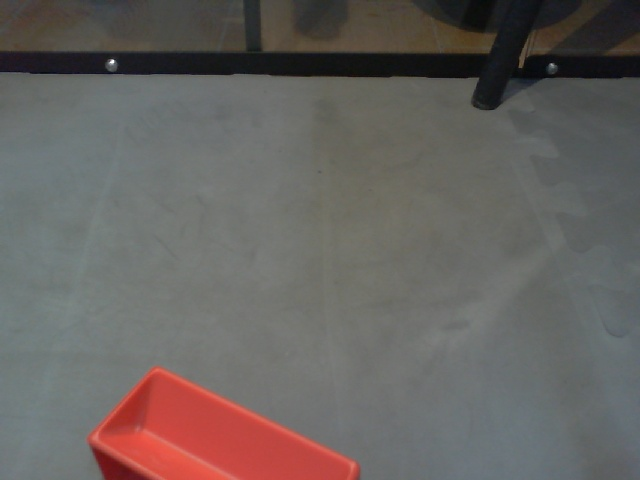RedSample: (86, 363, 360, 480)
